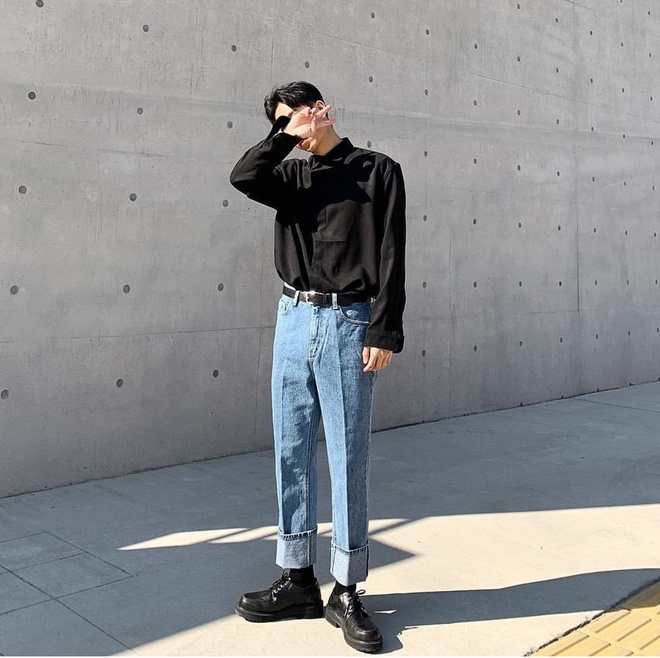person: (228, 81, 409, 652)
